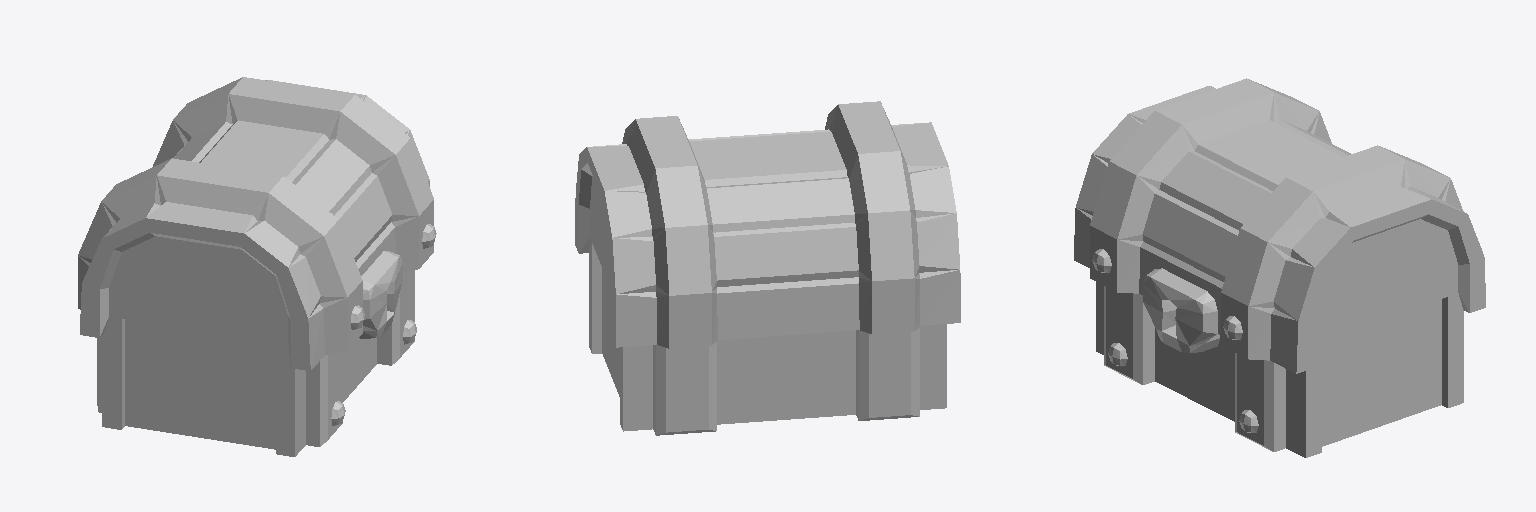
File: Treasure Island Chest.obj
The picture shows the model from 3 angles: view 1: azimuth 30°, elevation 25°; view 2: azimuth 150°, elevation 25°; view 3: azimuth 270°, elevation 25°; orthographic projection.
Visible parts, largest first — view 1: 001_chest_lid, 000_Buffer_Object; view 2: 001_chest_lid, 000_Buffer_Object; view 3: 001_chest_lid, 000_Buffer_Object.
Part boxes in pixels (bbox=[...]): 001_chest_lid: bbox=[78, 77, 436, 370]; 000_Buffer_Object: bbox=[97, 270, 416, 456]; 001_chest_lid: bbox=[575, 101, 960, 348]; 000_Buffer_Object: bbox=[589, 239, 946, 435]; 001_chest_lid: bbox=[1074, 78, 1485, 373]; 000_Buffer_Object: bbox=[1096, 282, 1463, 457].
Bounding box in the file's own units: 109 × 68.26 × 105.